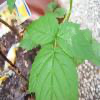Raspberry leaf: (28, 42, 79, 99), (56, 21, 99, 61), (25, 11, 58, 45)
